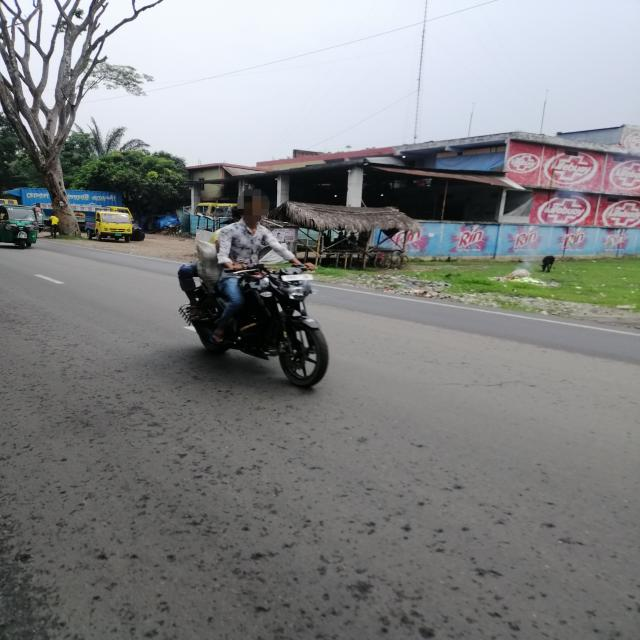Motorbike: (172, 256, 357, 388)
